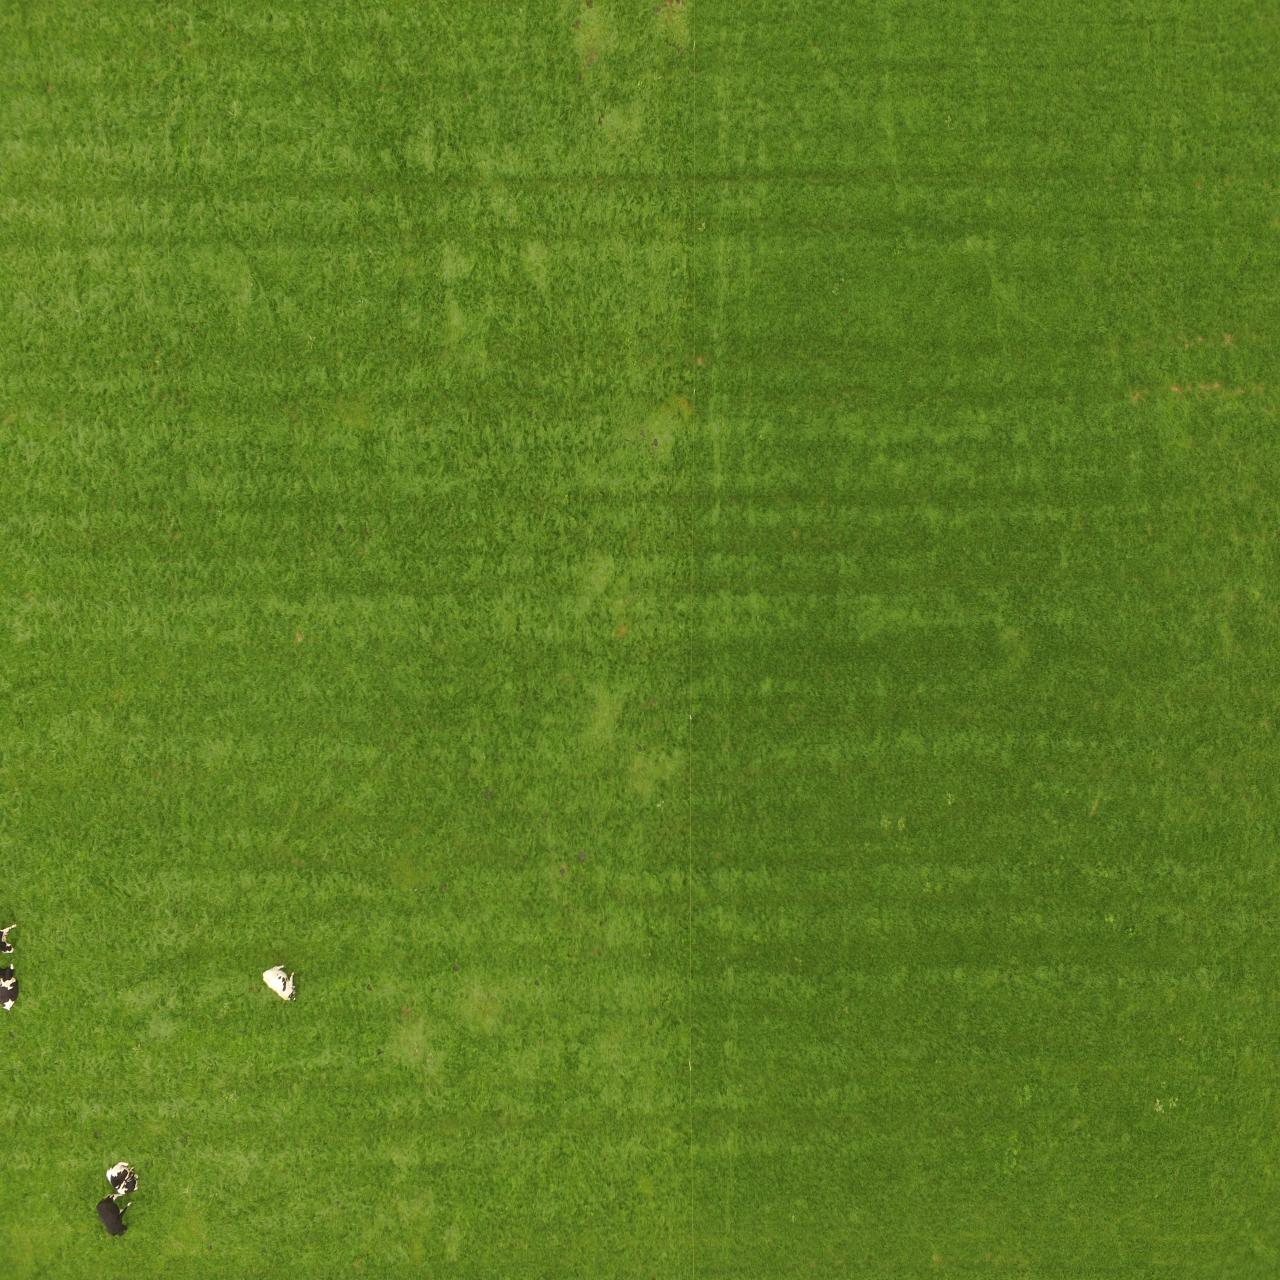cow: (91, 1197, 135, 1240), (258, 964, 299, 1005), (104, 1159, 148, 1194)
